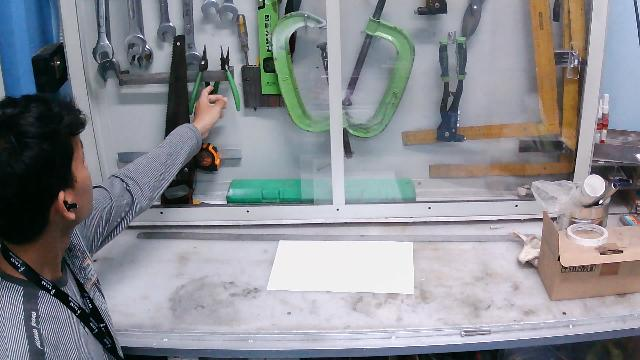tang_cucut_lancip_1: (210, 41, 246, 121)
